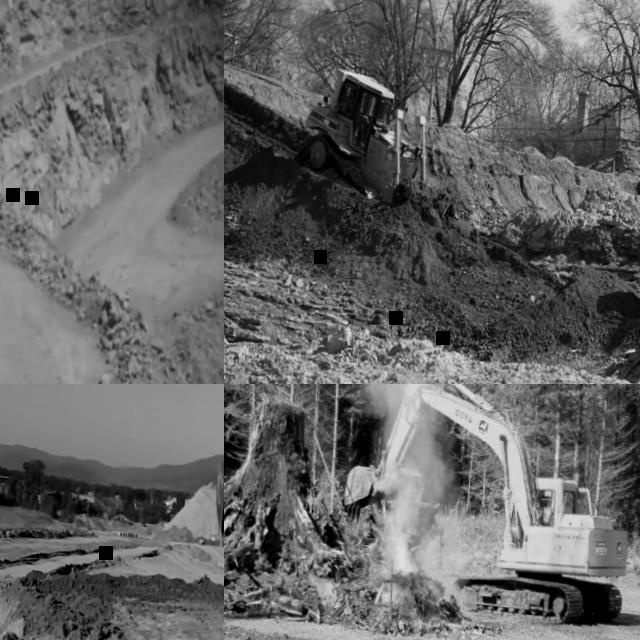Person: (341, 87, 367, 120), (538, 494, 553, 524)
machinery: (337, 384, 639, 626), (293, 67, 431, 201)
